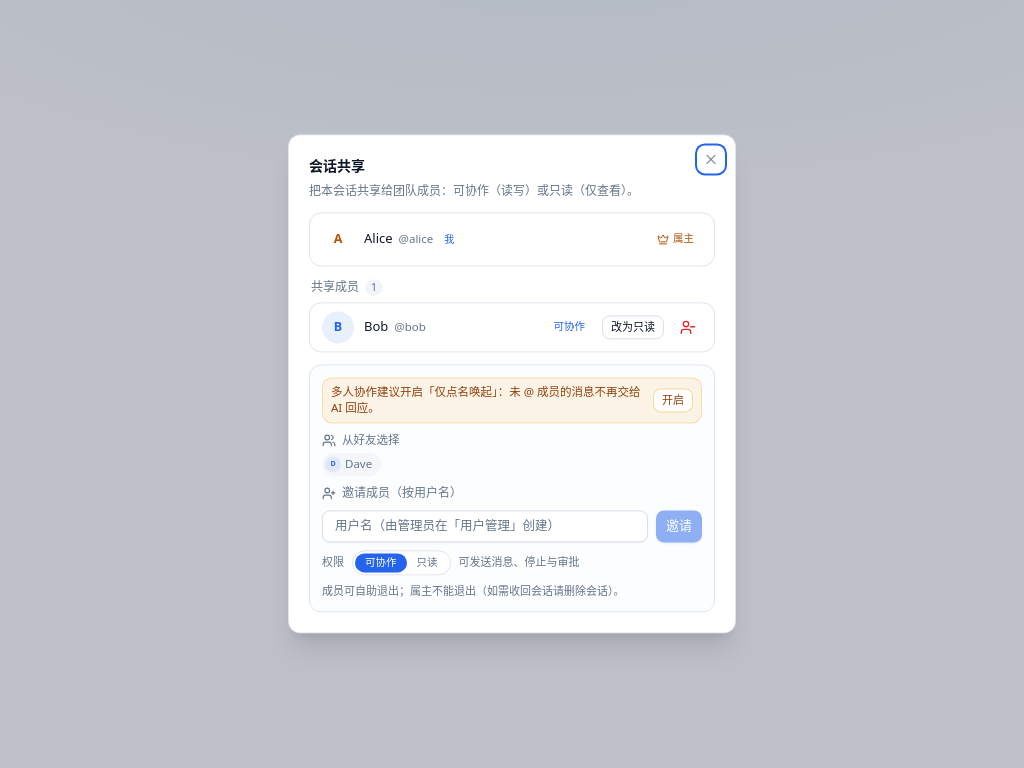
Scenario: M79-F：ShareDialog 静默引导 › team 会话已有成员且 auto → 提示行；开启 → PATCH routeMode=mention → 提示消失
The image size is (1024, 768).
Check: the text "多人协作建议开启「仅点名唤起」：未 @ 成员的消息不再交给 AI 回应。" is shown, box left=331, top=384, right=645, bottom=416
Click the button "开启" at x=673, y=400, box left=653, top=388, right=693, bottom=412
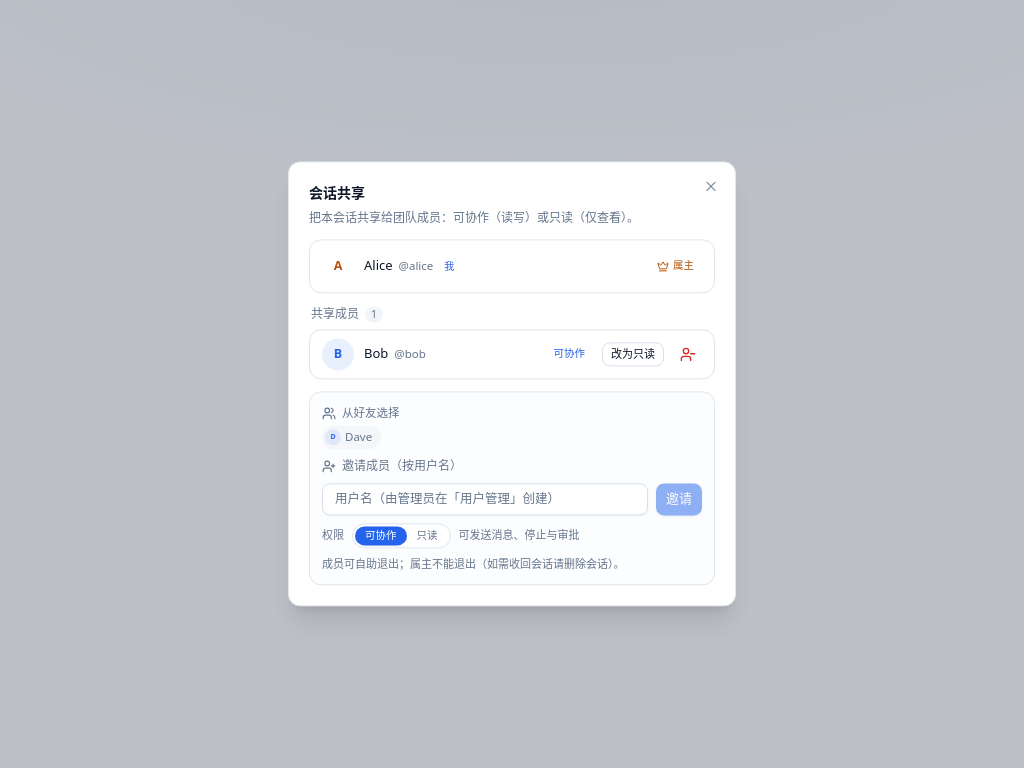
Check: the text "多人协作建议开启「仅点名唤起」" is gone
